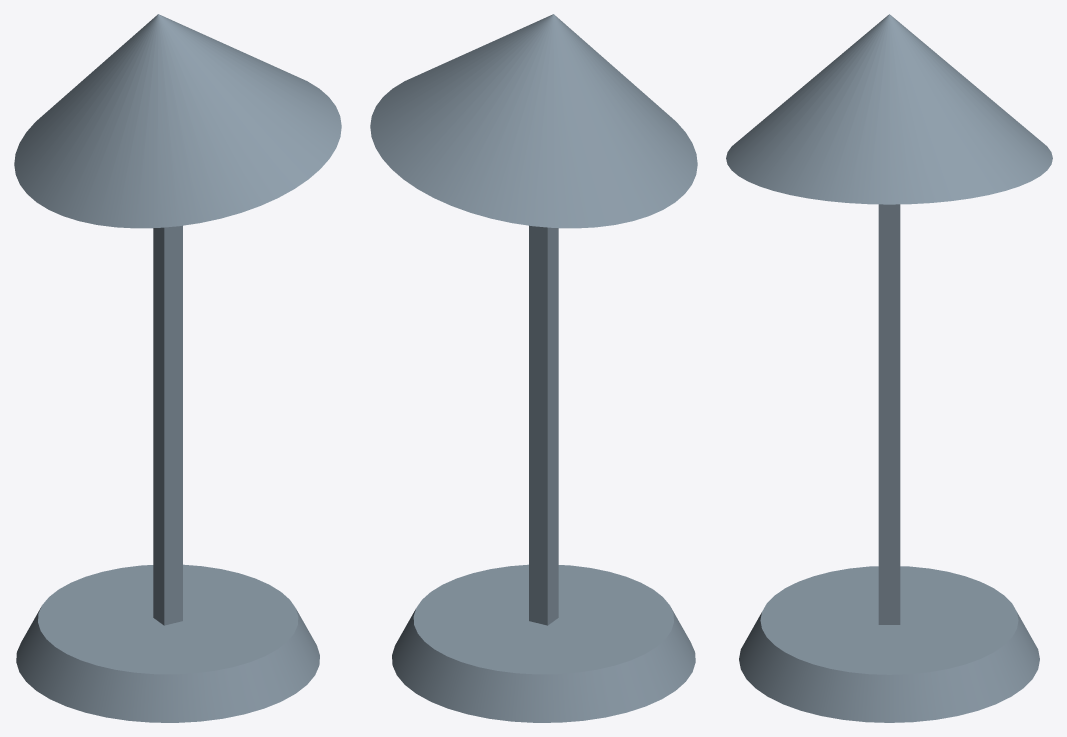
Rendered from lamp.glb.
The picture shows the model from 3 angles, left to right: view 1: azimuth 30°, elevation 25°; view 2: azimuth 150°, elevation 25°; view 3: azimuth 270°, elevation 25°; orthographic projection.
Bounding box in the file's own units: 0.7519 × 1.64 × 0.76.
